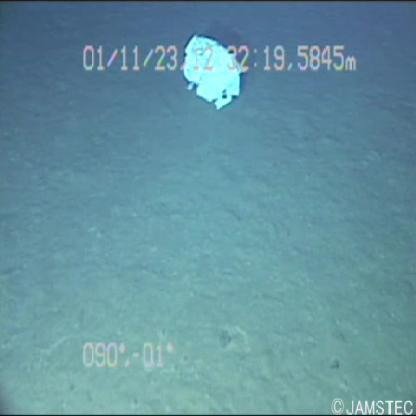Rác: (175, 25, 250, 112)
